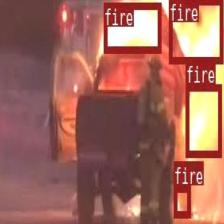fire: (168, 0, 222, 63), (103, 2, 161, 52), (184, 83, 222, 156), (173, 185, 190, 217)
